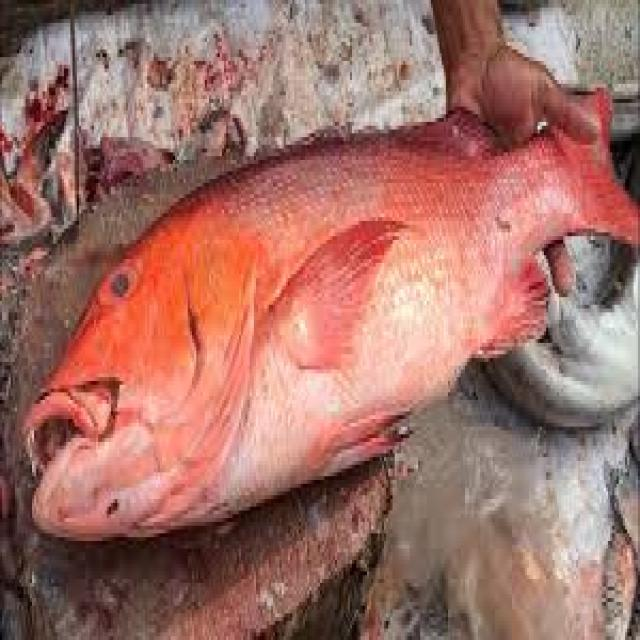northern-red-snapper: (29, 61, 640, 549)
